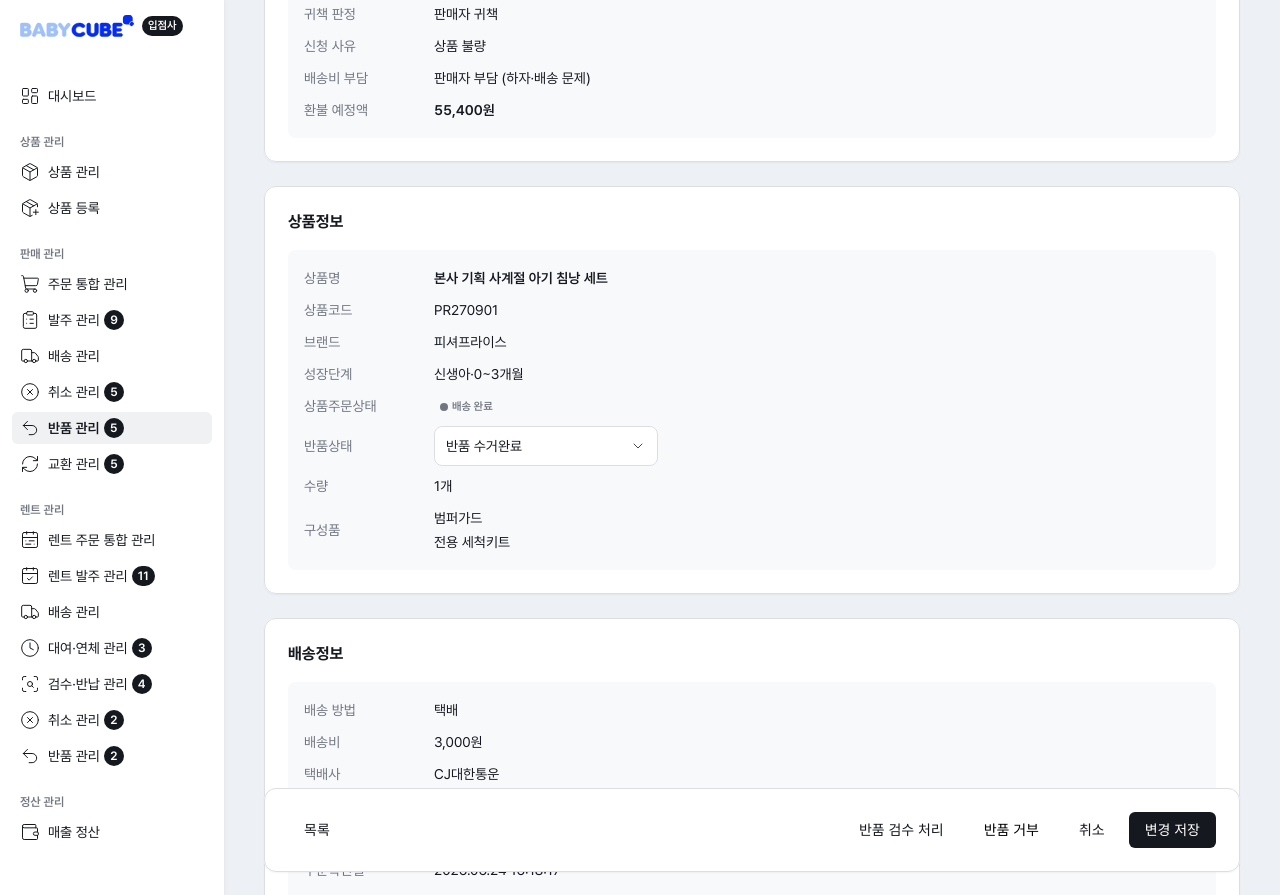
Test: 클레임 상세 — 개발 요청 2026-11-12 21~24번 › 21 · 반품 [교환으로 변경] 창에도 동의 체크
The image size is (1280, 895).
(page scrolled)
Click the dropdown named "반품상태" at (546,446), box [434,426,658,466]
(page scrolled)
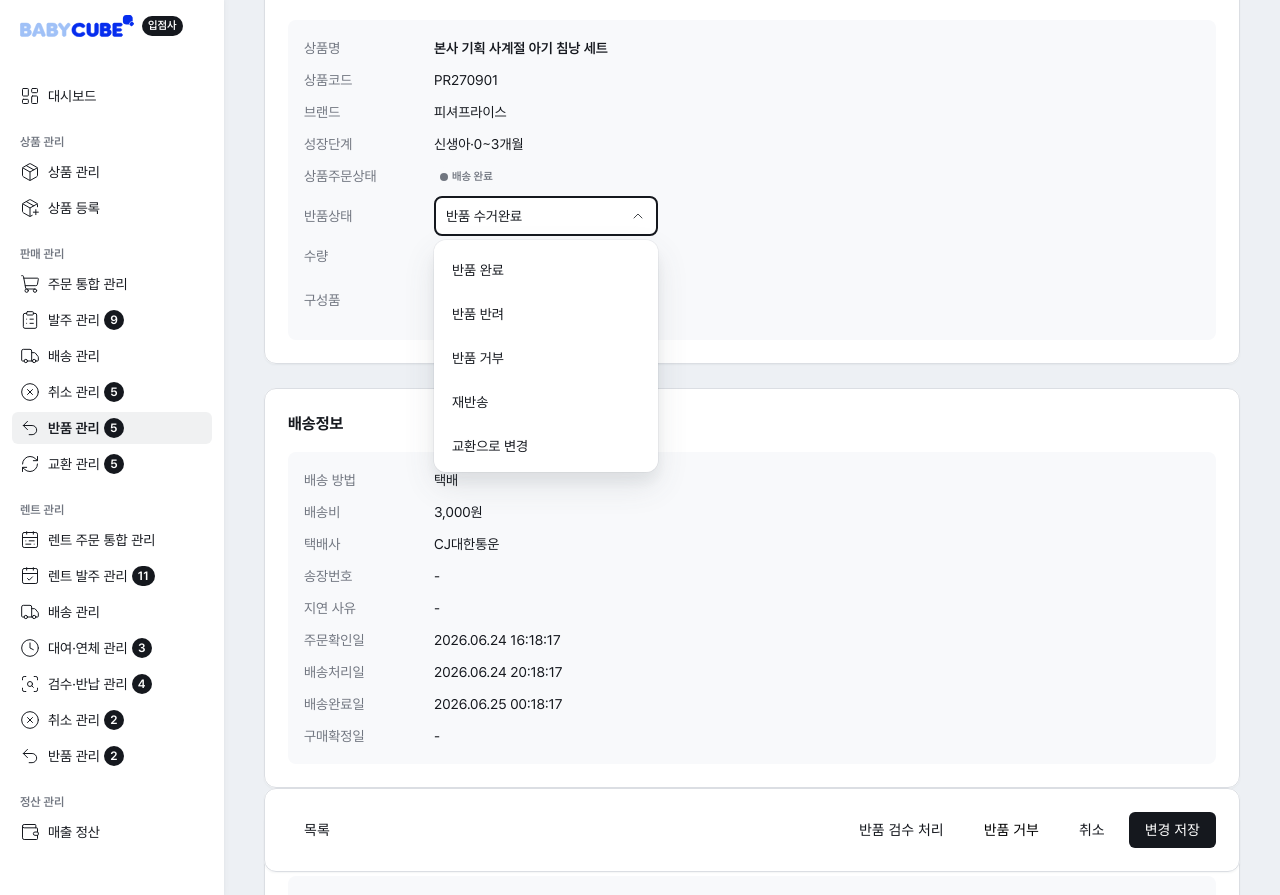
Click the option "교환으로 변경" at (490,446), box [452,438,528,454]
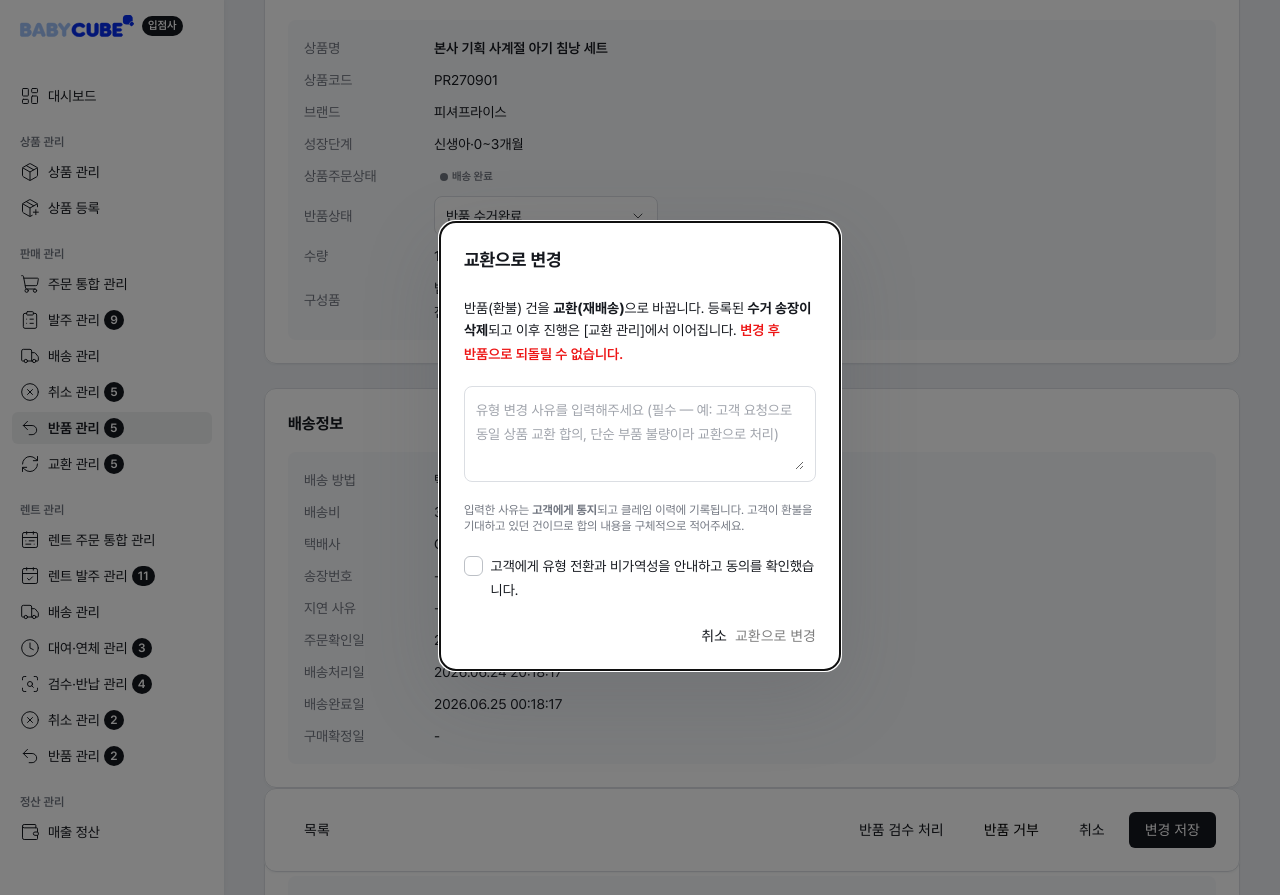
expect the checkbox labelled "고객에게 유형 전환과 비가역성을 안내하고 동의를 확인했습니다." is not checked: met, box [464,554,816,602]
expect the button "교환으로 변경" is disabled: met, box [735,626,816,646]
